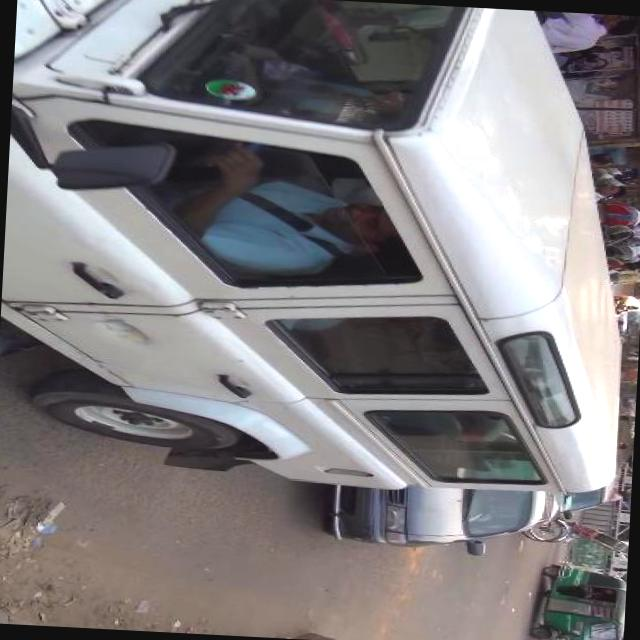car: (0, 0, 640, 507), (312, 480, 549, 562), (612, 293, 640, 347)
motorcycle: (525, 557, 628, 640), (528, 508, 630, 558), (603, 226, 640, 281), (595, 195, 640, 234)
